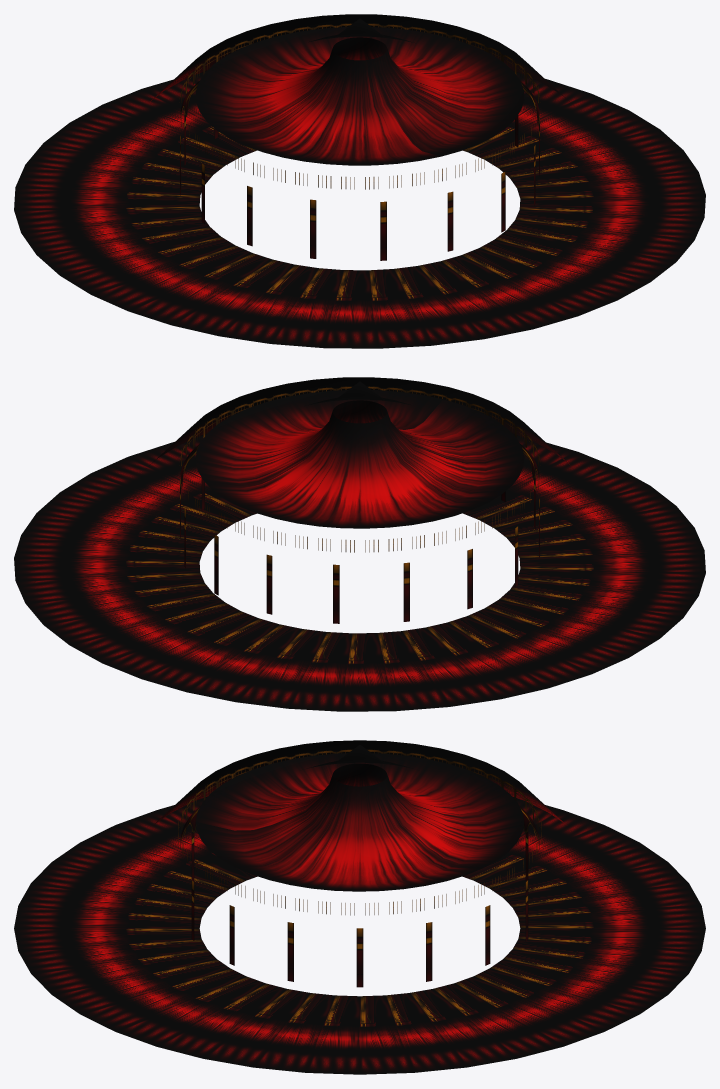
Rendered from Boss_map_wall2.fbx.
3 views of the same model, one above another, from view 1: azimuth 30°, elevation 25°; view 2: azimuth 150°, elevation 25°; view 3: azimuth 270°, elevation 25° (orthographic).
Parts seen in each view (by area): view 1: pCone1, pPlane15, polySurface9; view 2: pCone1, pPlane15, polySurface9; view 3: pCone1, pPlane15, polySurface9.
Part boxes in pixels (left/top/right/bottom): pCone1: left=14, top=14, right=705, bottom=348; pPlane15: left=195, top=27, right=523, bottom=165; polySurface9: left=179, top=23, right=540, bottom=260; pCone1: left=14, top=377, right=705, bottom=711; pPlane15: left=195, top=390, right=524, bottom=528; polySurface9: left=179, top=386, right=540, bottom=623; pCone1: left=14, top=740, right=705, bottom=1074; pPlane15: left=195, top=753, right=523, bottom=891; polySurface9: left=178, top=749, right=541, bottom=987.
Bounding box in the file's own units: 21026 × 6167 × 21026.
